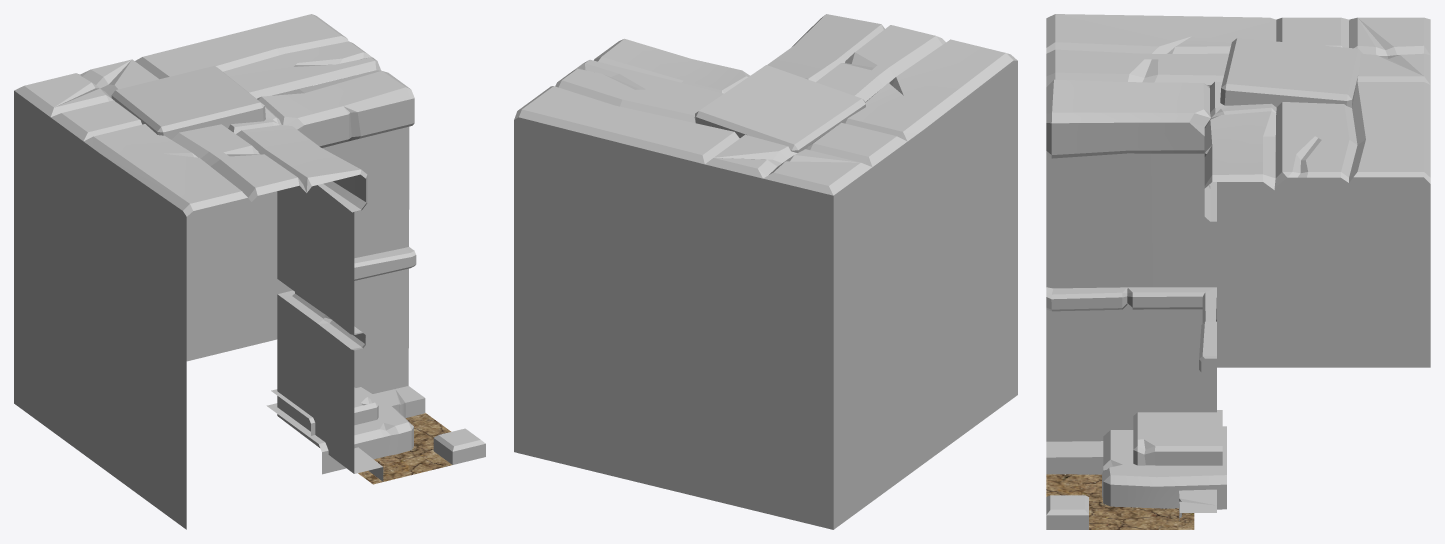
File: C_negativecorner_tile.fbx
3 renders of one model, left to right at view 1: azimuth 30°, elevation 25°; view 2: azimuth 150°, elevation 25°; view 3: azimuth 270°, elevation 25°, orthographic. The views are drawn at different scales.
Parts seen in each view (by area): view 1: negativecorner; view 2: negativecorner; view 3: negativecorner.
Boxes of the visible parts, bbox=[...] form: negativecorner: bbox=[14, 14, 485, 529]; negativecorner: bbox=[514, 14, 1017, 529]; negativecorner: bbox=[1046, 14, 1430, 529].
Bounding box in the file's own units: 1 × 1.06 × 1.
